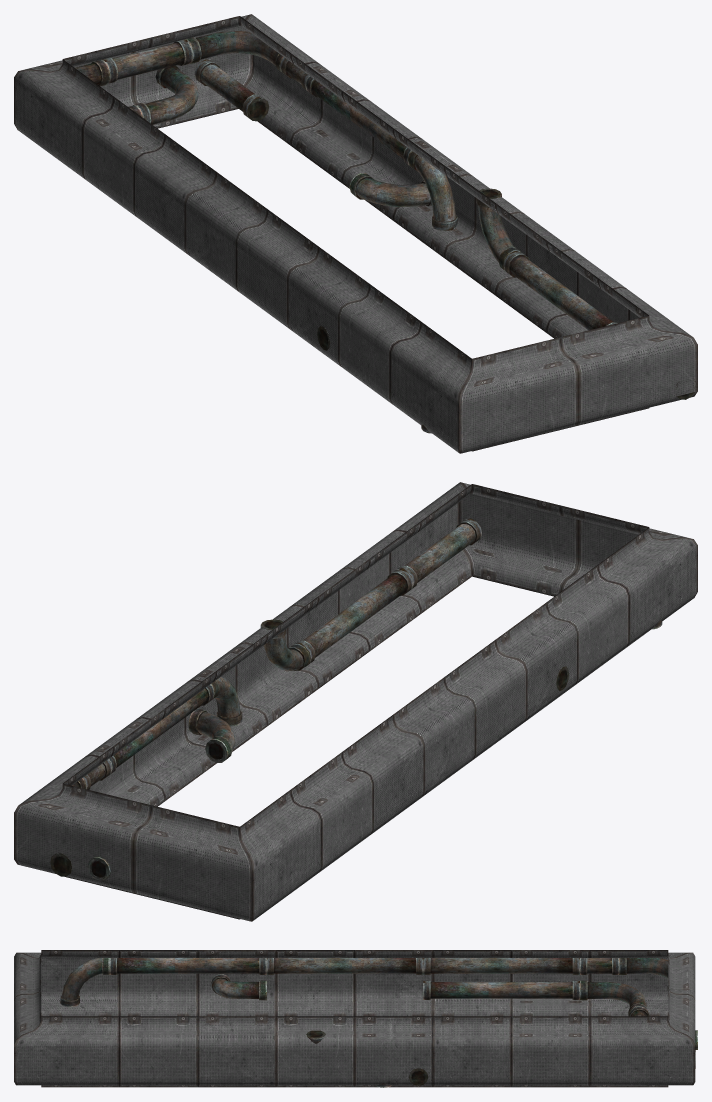
The model's file is 01_02_hub_room_stairwell.dae.
3 views of the same model, one above another, from view 1: azimuth 30°, elevation 25°; view 2: azimuth 150°, elevation 25°; view 3: azimuth 270°, elevation 25° (orthographic). The views are drawn at different scales.
Visible parts, largest first — view 1: Mesh, pipes; view 2: Mesh, pipes; view 3: Mesh, pipes.
Boxes of the visible parts, x1,y1,x2,y2 form: Mesh: (14,14,697,453); pipes: (75,31,696,433); Mesh: (14,482,697,921); pipes: (50,518,662,880); Mesh: (14,950,695,1087); pipes: (60,958,697,1087).
Bounding box in the file's own units: 2.7 × 1 × 8.73.
